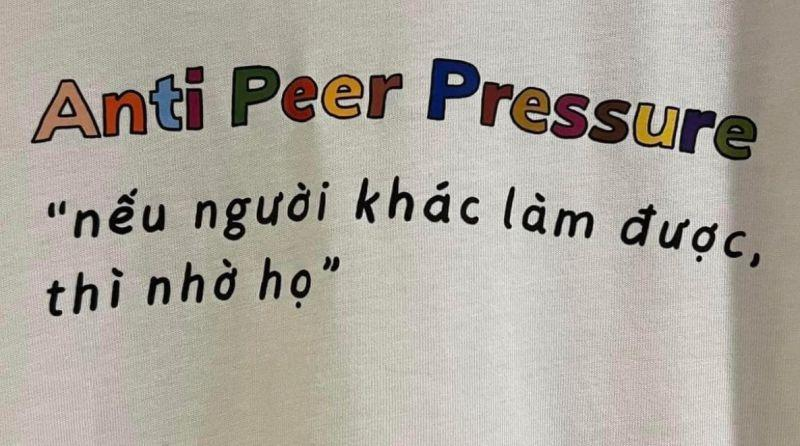text: (28, 53, 760, 164), (45, 172, 764, 271), (45, 253, 342, 321)
